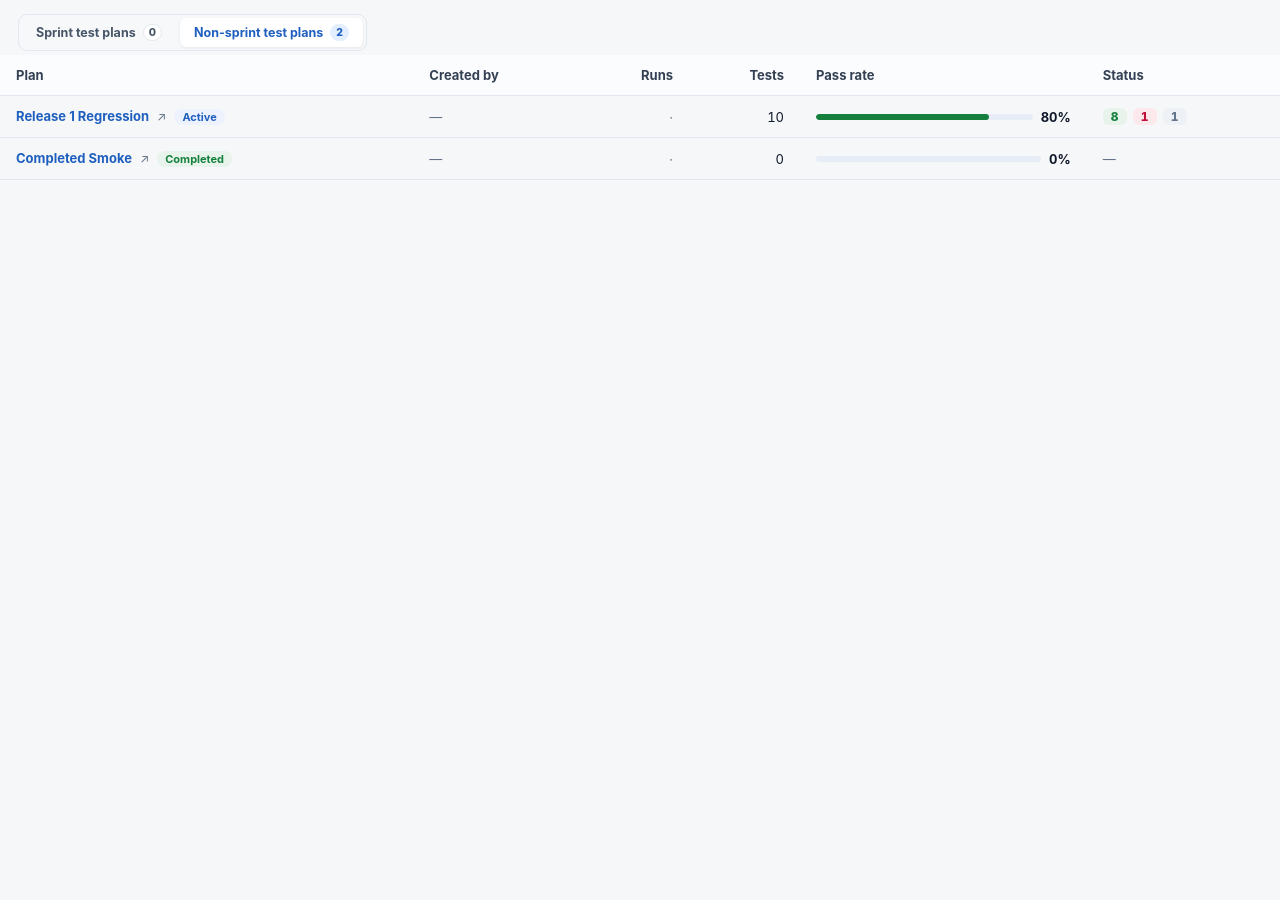
Test: PlanList › opens a plan review modal and filters missing evidence
Click the button "Release 1 Regression". click: (83, 116)
box: [16,108,149,124]
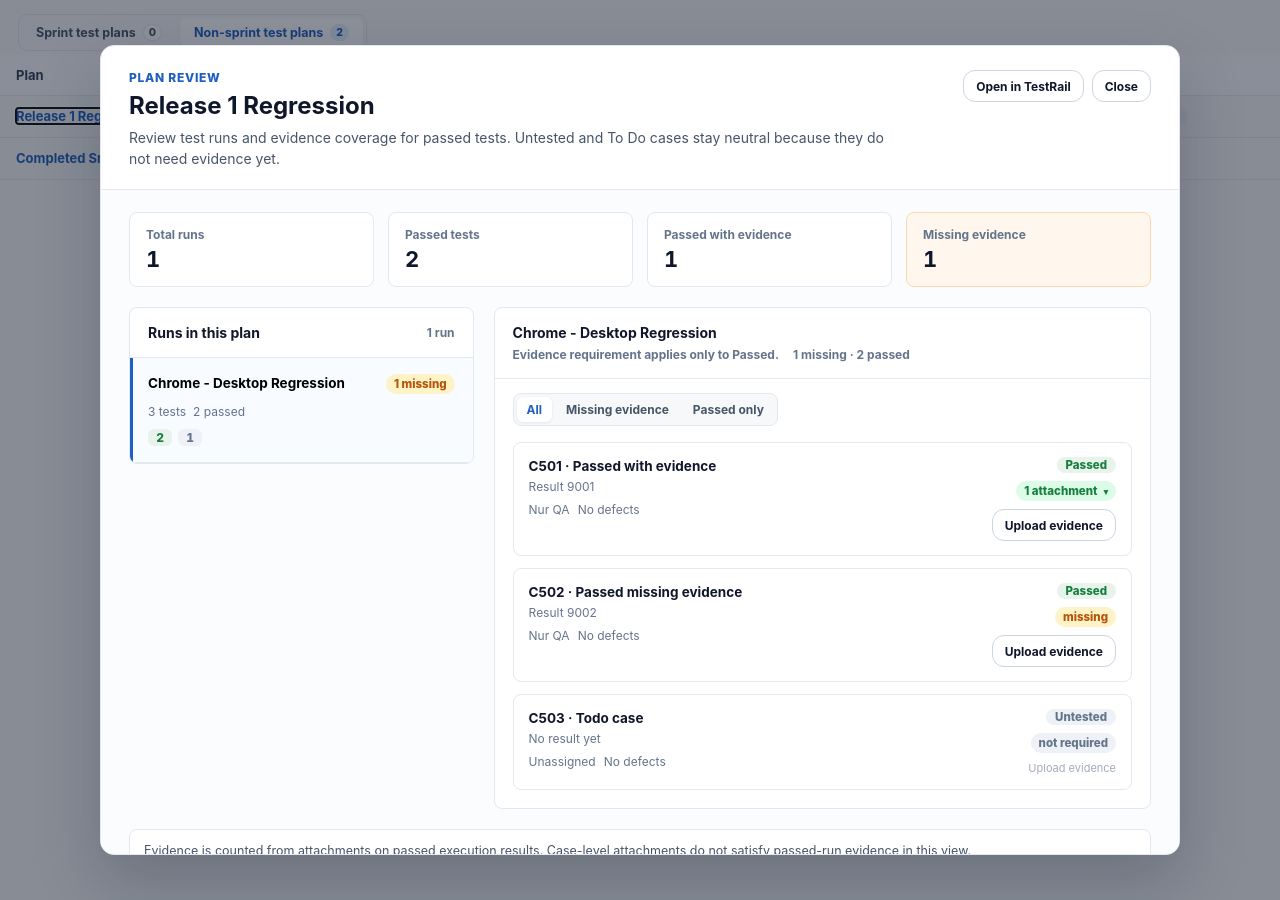
Expected: the dialog "Release 1 Regression" is shown
Expected: the text "C501 · Passed with evidence" is shown, [529,458,716,474]
Expected: the text "C502 · Passed missing evidence" is shown, [529,584,742,600]
Click the button "Missing evidence". click: (617, 410)
box: [556,397,679,422]
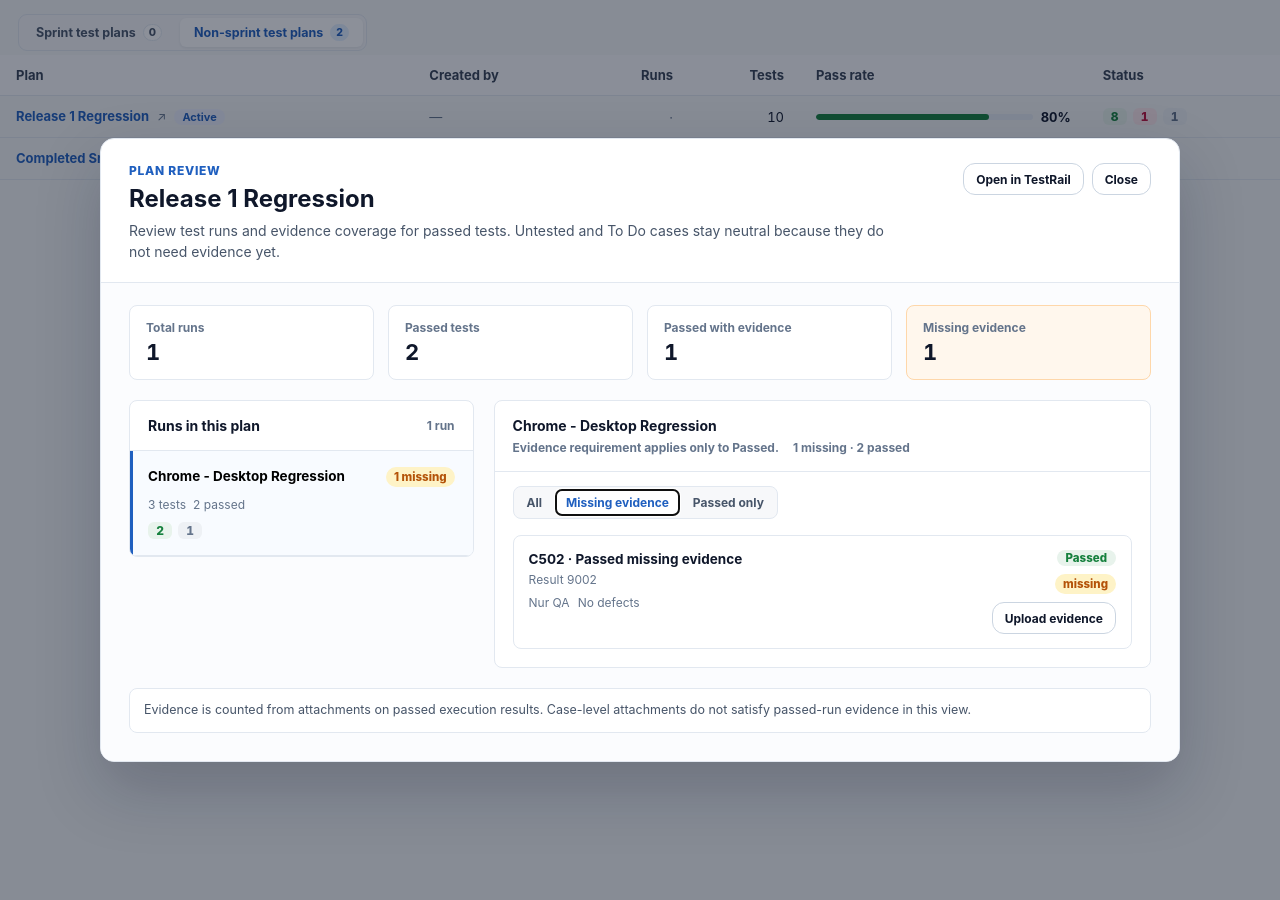
Expected: the text "C502 · Passed missing evidence" is shown, [529,551,742,567]
Expected: the text "C501 · Passed with evidence" is gone
Expected: the text "C503 · Todo case" is gone
